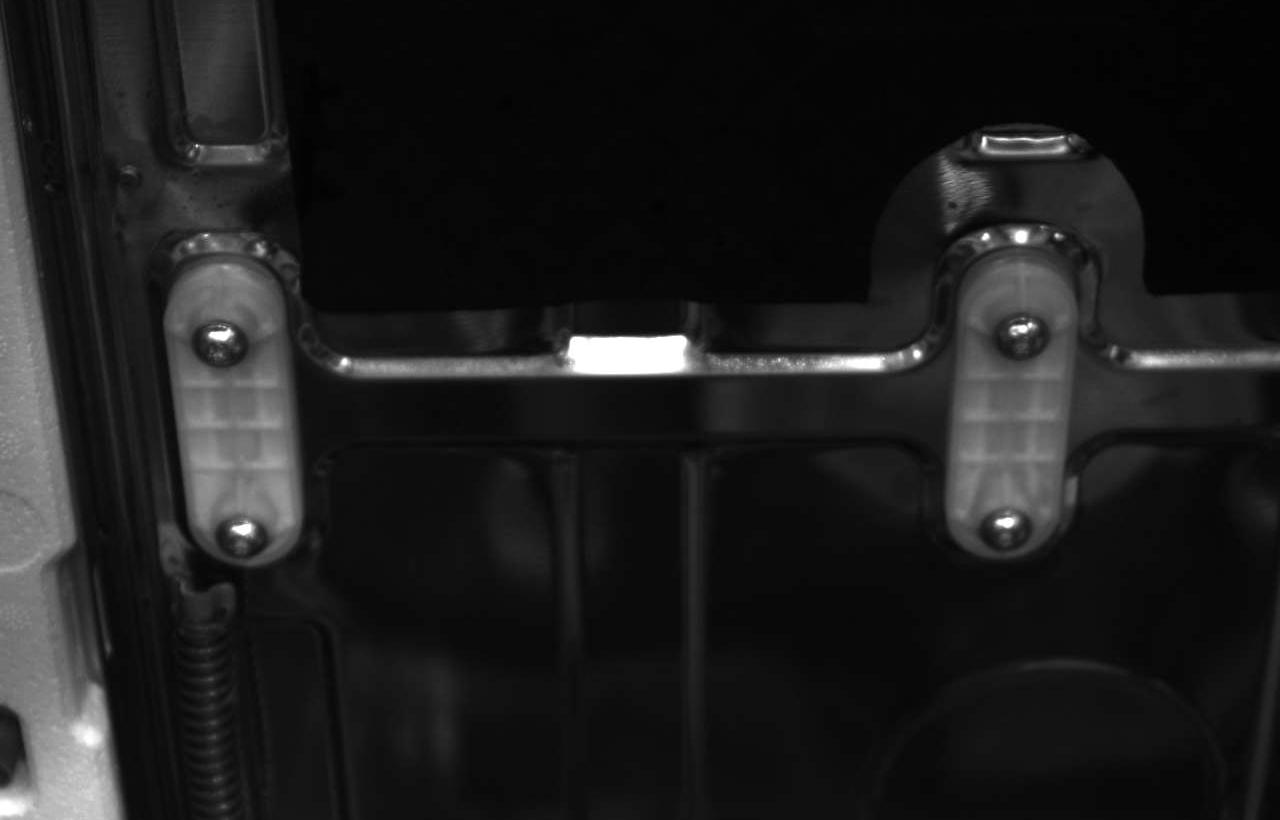vida-ok: (189, 314, 260, 381), (987, 299, 1054, 367), (970, 487, 1036, 555), (207, 508, 273, 567)
